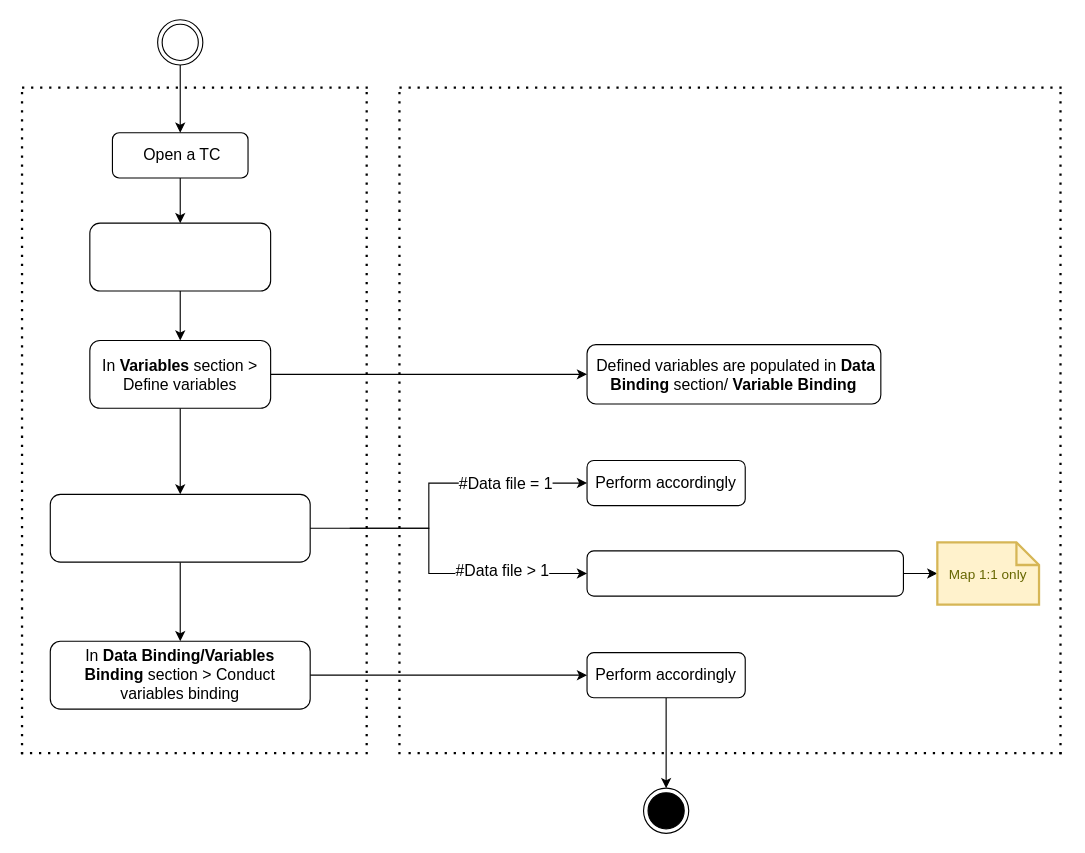
Some shapes in this 1085 by 853 pixel diagram are drawn without their labels. The centre of each missing label's shape, as x and y in pixels:
Displays dialog "KSE license is required ": point 744,573
In Data Binding/Test Data section > Add Data files: point 179,527
Switch to Variables & Data Binding tab: point 180,256
